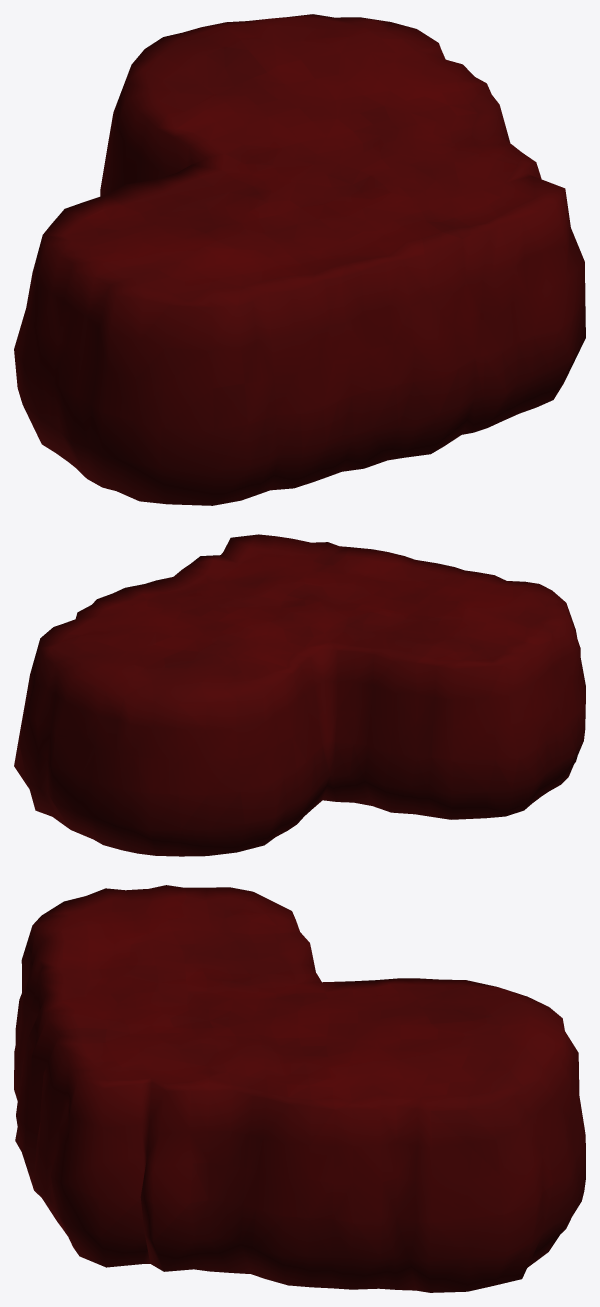
Rendered from geology-landforms-rockmesamedium_v1.fbx.
3 views of the same model, one above another, from view 1: azimuth 30°, elevation 25°; view 2: azimuth 150°, elevation 25°; view 3: azimuth 270°, elevation 25° (orthographic). The views are drawn at different scales.
Parts seen in each view (by area): view 1: RockMesaMedium_v1; view 2: RockMesaMedium_v1; view 3: RockMesaMedium_v1.
Boxes of the visible parts, box(x1,y1,x2,y2) form: RockMesaMedium_v1: box(14, 14, 585, 505); RockMesaMedium_v1: box(14, 534, 585, 856); RockMesaMedium_v1: box(14, 885, 585, 1292).
Size of the model in its own units: 58.82 by 21.95 by 58.23.
